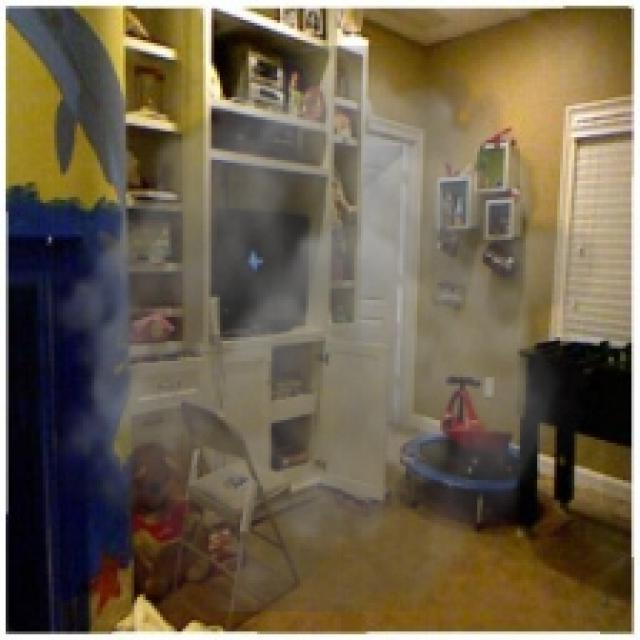smoke: (34, 46, 600, 611)
